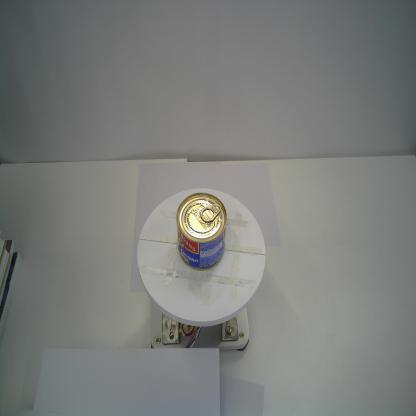Canned Food: (172, 188, 229, 274)
